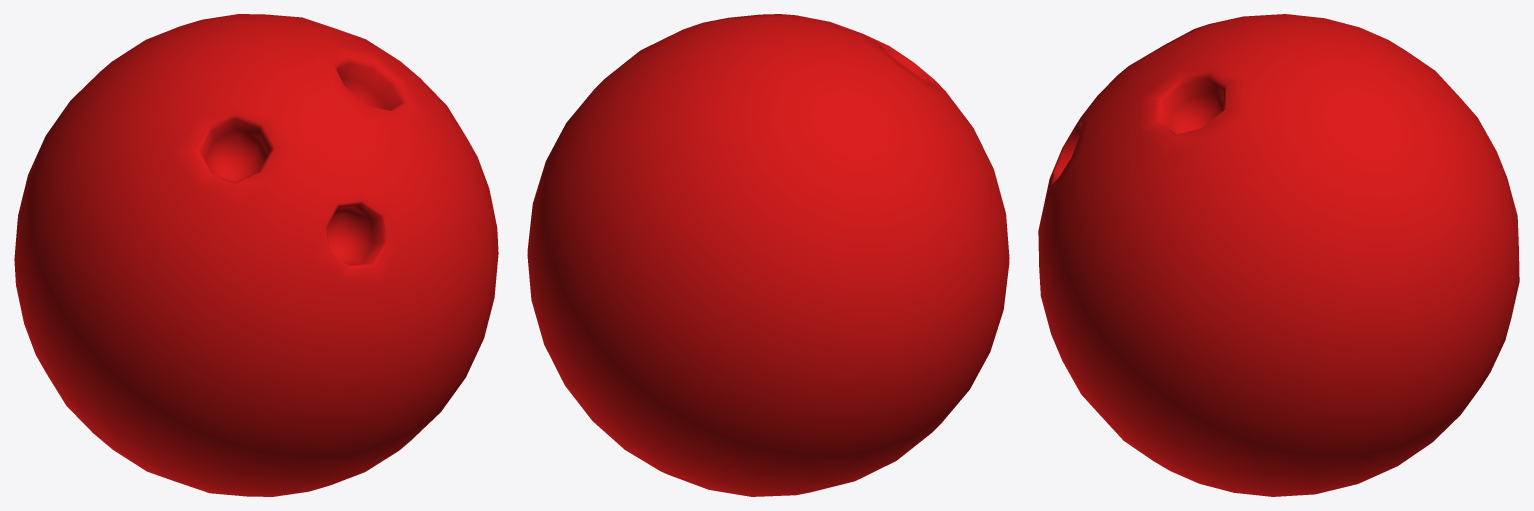
Rendered from bowlingBall17.obj.
3 views of the same model, side by side, from view 1: azimuth 30°, elevation 25°; view 2: azimuth 150°, elevation 25°; view 3: azimuth 270°, elevation 25° (orthographic).
Parts seen in each view (by area): view 1: bowlingBall17; view 2: bowlingBall17; view 3: bowlingBall17.
Boxes of the visible parts, <box> form: bowlingBall17: <box>14,14,498,496</box>; bowlingBall17: <box>527,14,1009,496</box>; bowlingBall17: <box>1038,14,1519,496</box>.
Size of the model in its own units: 0.1724 by 0.1722 by 0.172.
